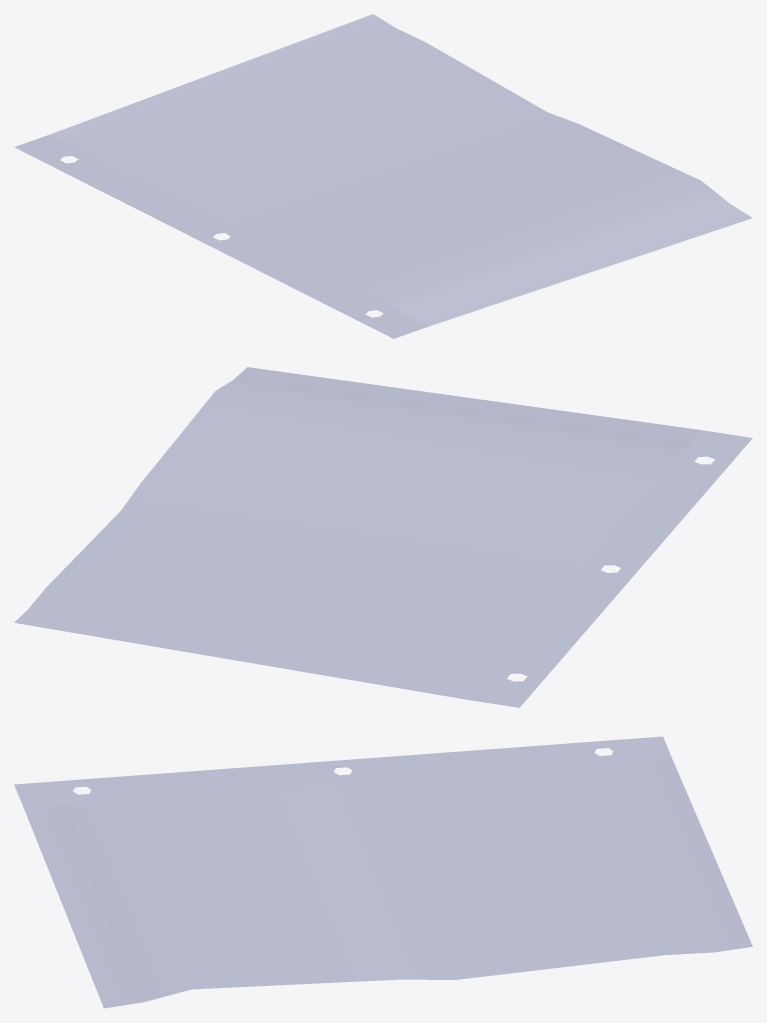
File: Hoja_2.fbx
3 renders of one model, top to bottom at view 1: azimuth 30°, elevation 25°; view 2: azimuth 150°, elevation 25°; view 3: azimuth 270°, elevation 25°, orthographic. The views are drawn at different scales.
Visible parts, largest first — view 1: Hoja_2; view 2: Hoja_2; view 3: Hoja_2.
Boxes of the visible parts, x1=… form: Hoja_2: x1=14, y1=14, x2=752, y2=338; Hoja_2: x1=14, y1=367, x2=752, y2=707; Hoja_2: x1=14, y1=736, x2=752, y2=1008.
Size of the model in its own units: 0.2285 by 0.00552 by 0.2692.
